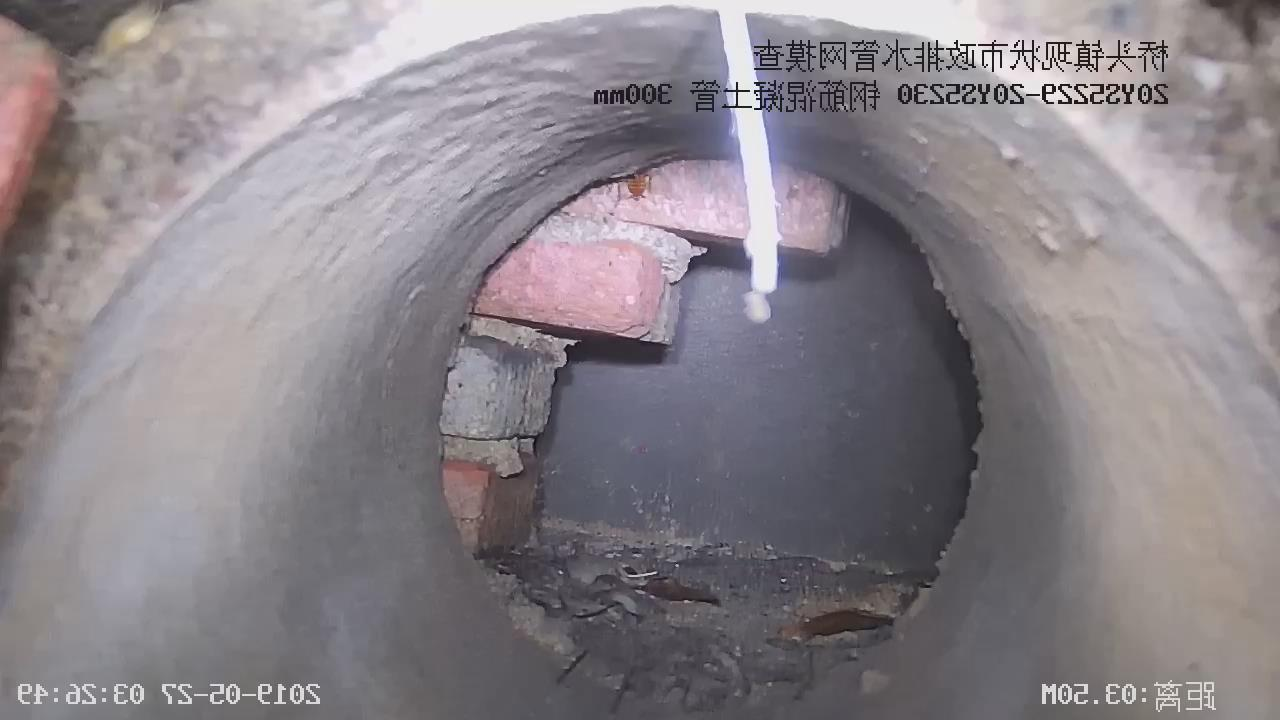CQBG: (440, 160, 750, 559), (773, 167, 847, 254)
